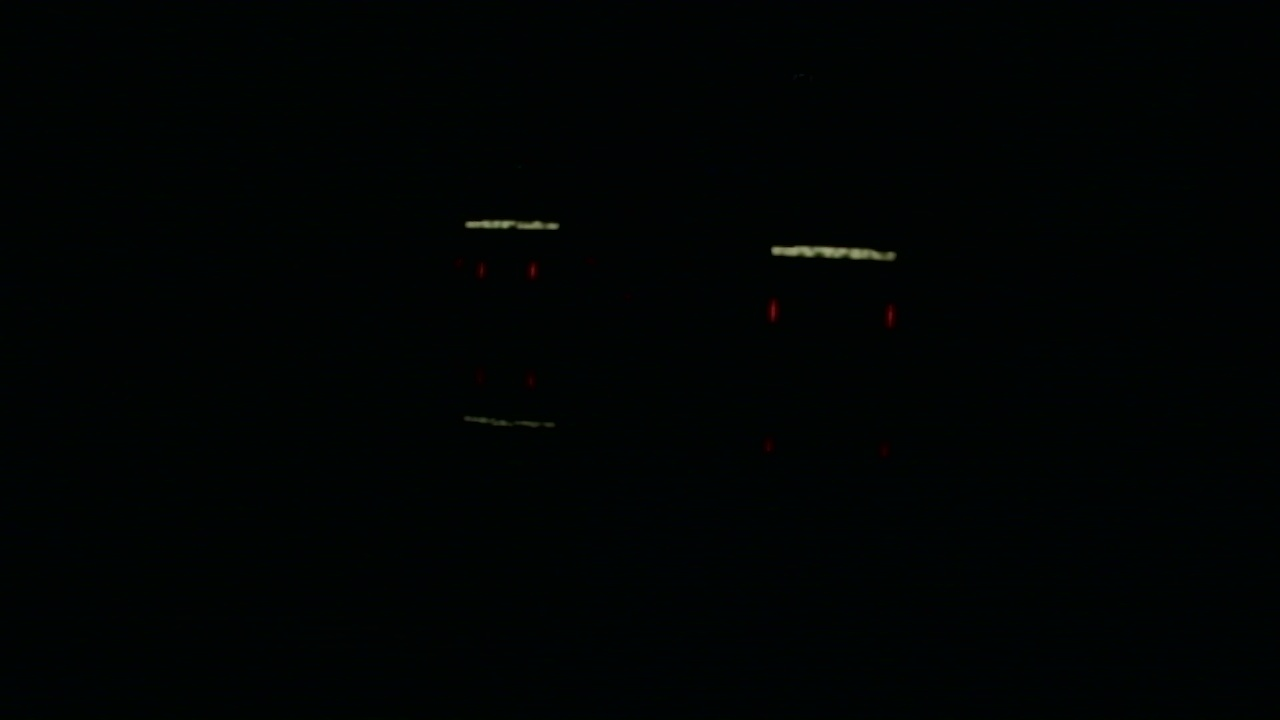lamp: (885, 299, 894, 328), (767, 299, 777, 324), (480, 262, 484, 277), (531, 263, 534, 277)
pair1: (480, 264, 534, 277)
pair2: (767, 300, 894, 329)
